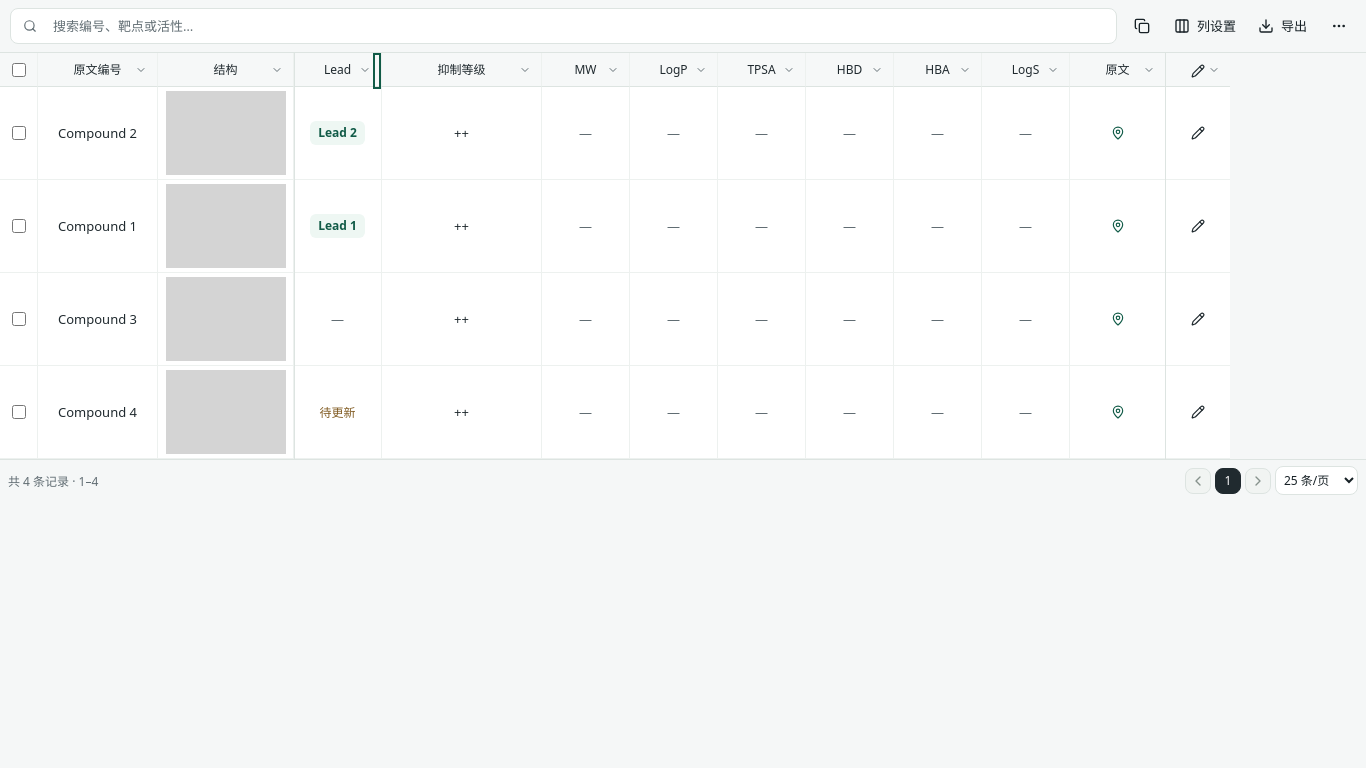
Test case: minimal backend-owned Lead column › supports the existing Lead column hide/restore and keyboard width controls
Press Arrowright
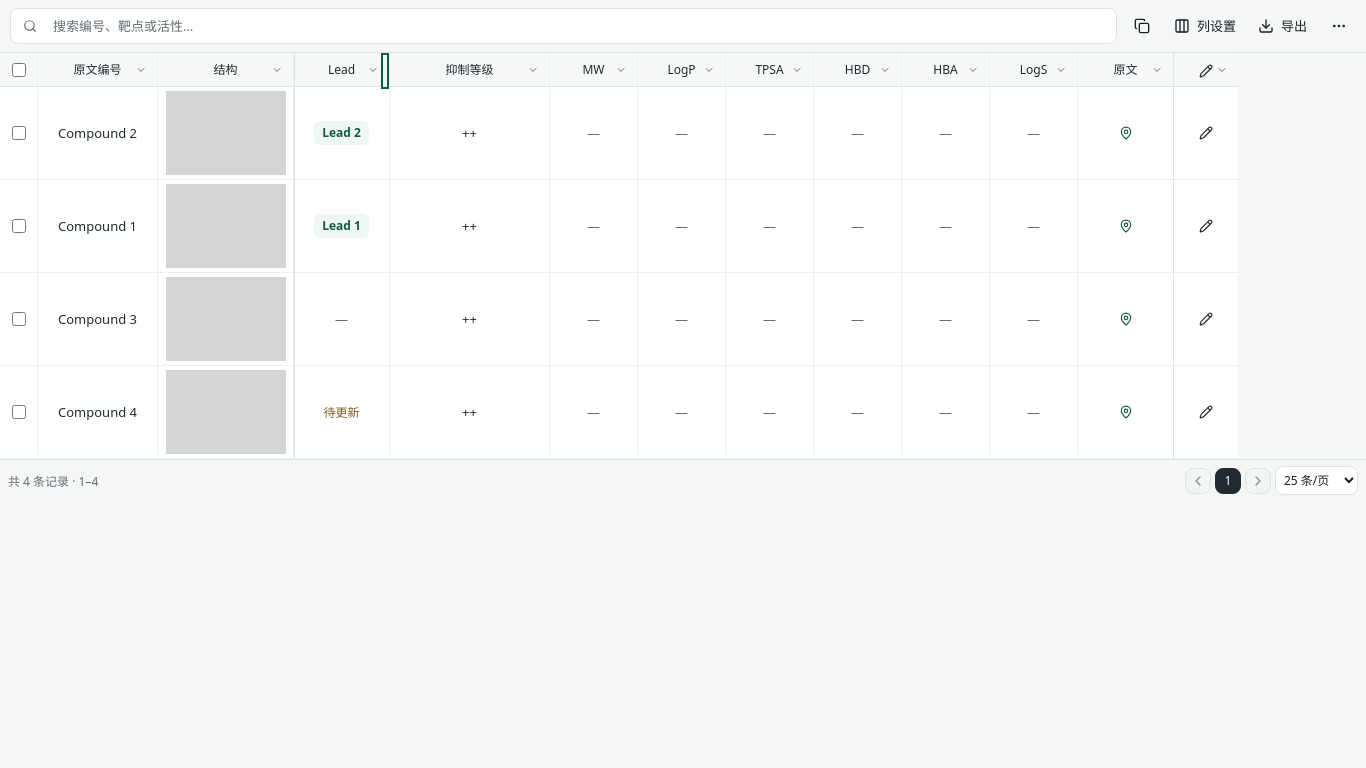
Expected: the slider named "调整Lead列宽" has attribute aria-valuenow="96", [381, 53, 389, 89]
Click the button named "Lead 列选项" at (338, 70), box [294, 53, 381, 86]
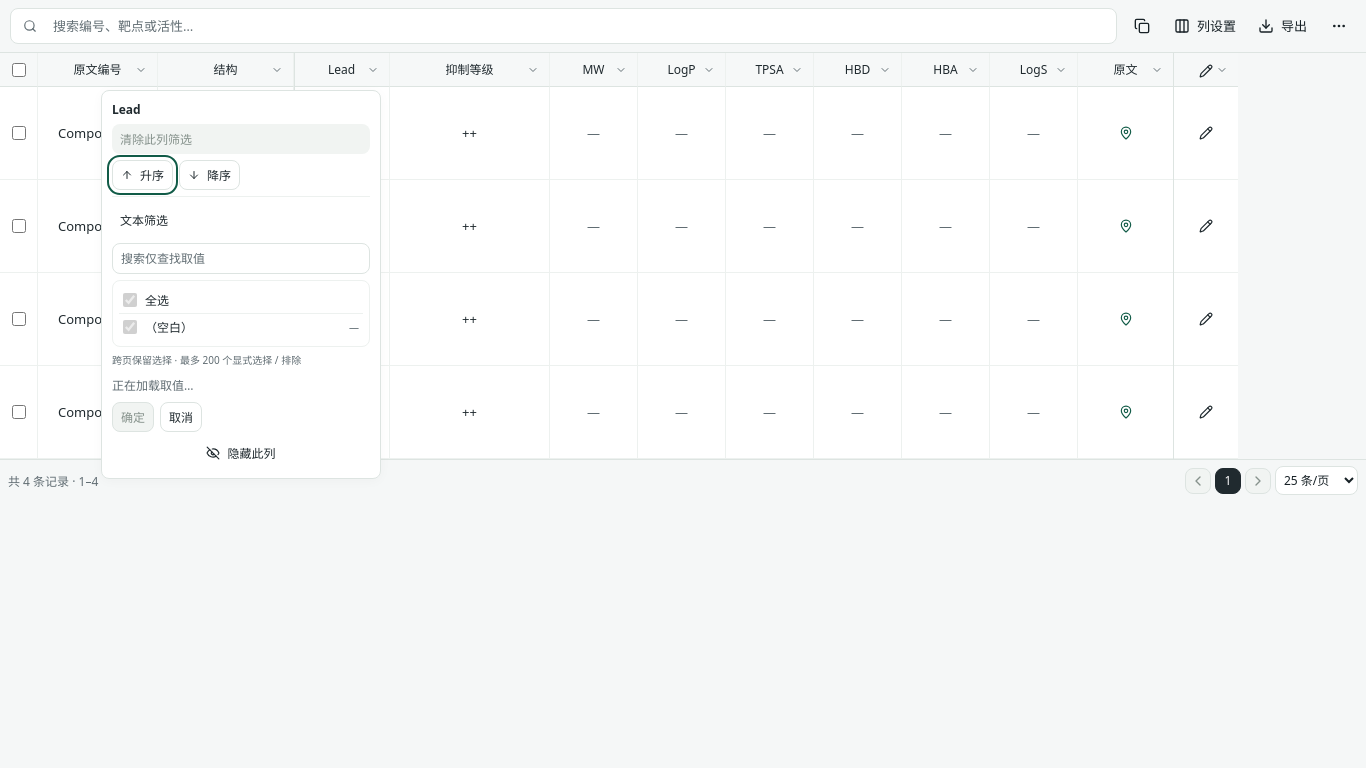
Click the button "隐藏此列" at (241, 453), box [112, 438, 370, 468]
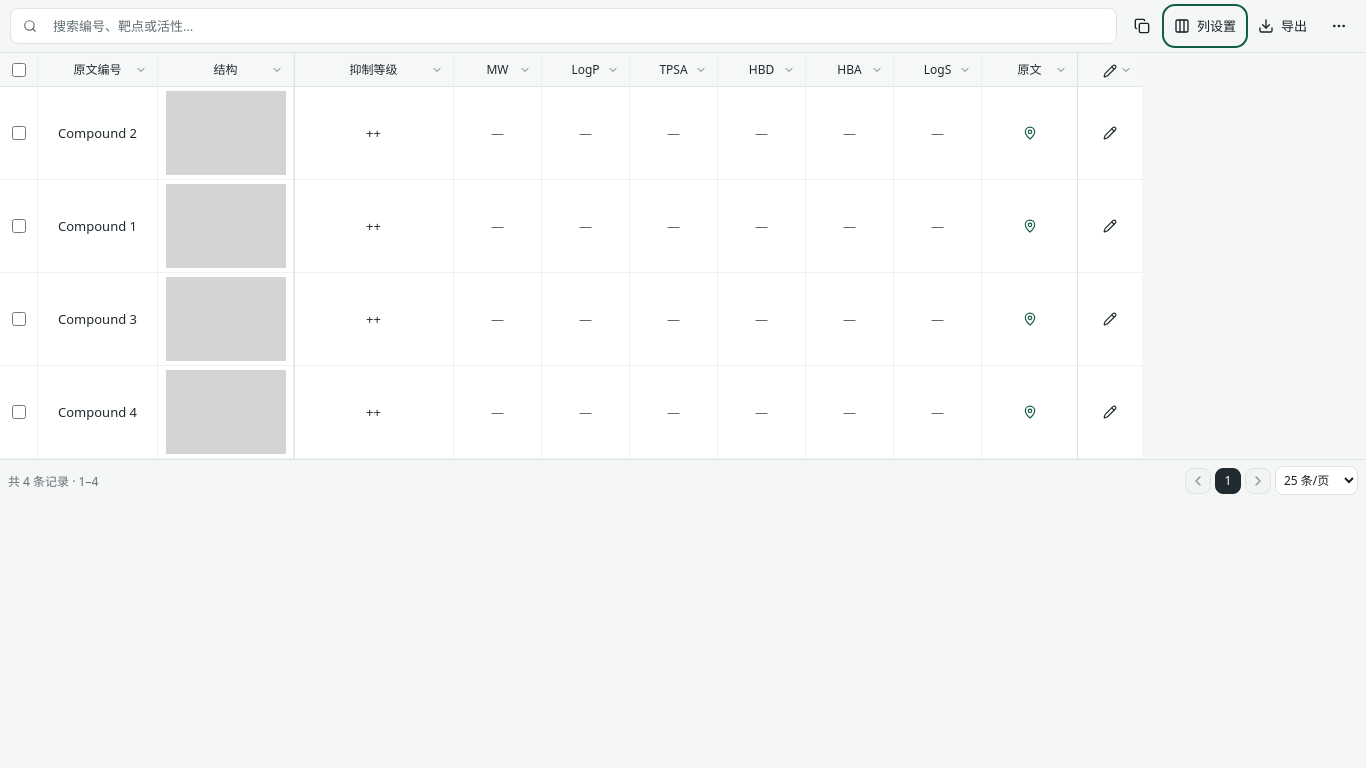
Expected: the text "Lead" is gone
Expected: the button is gone
Click the button with aria-label "显示列" at (1205, 26), box [1167, 9, 1243, 43]
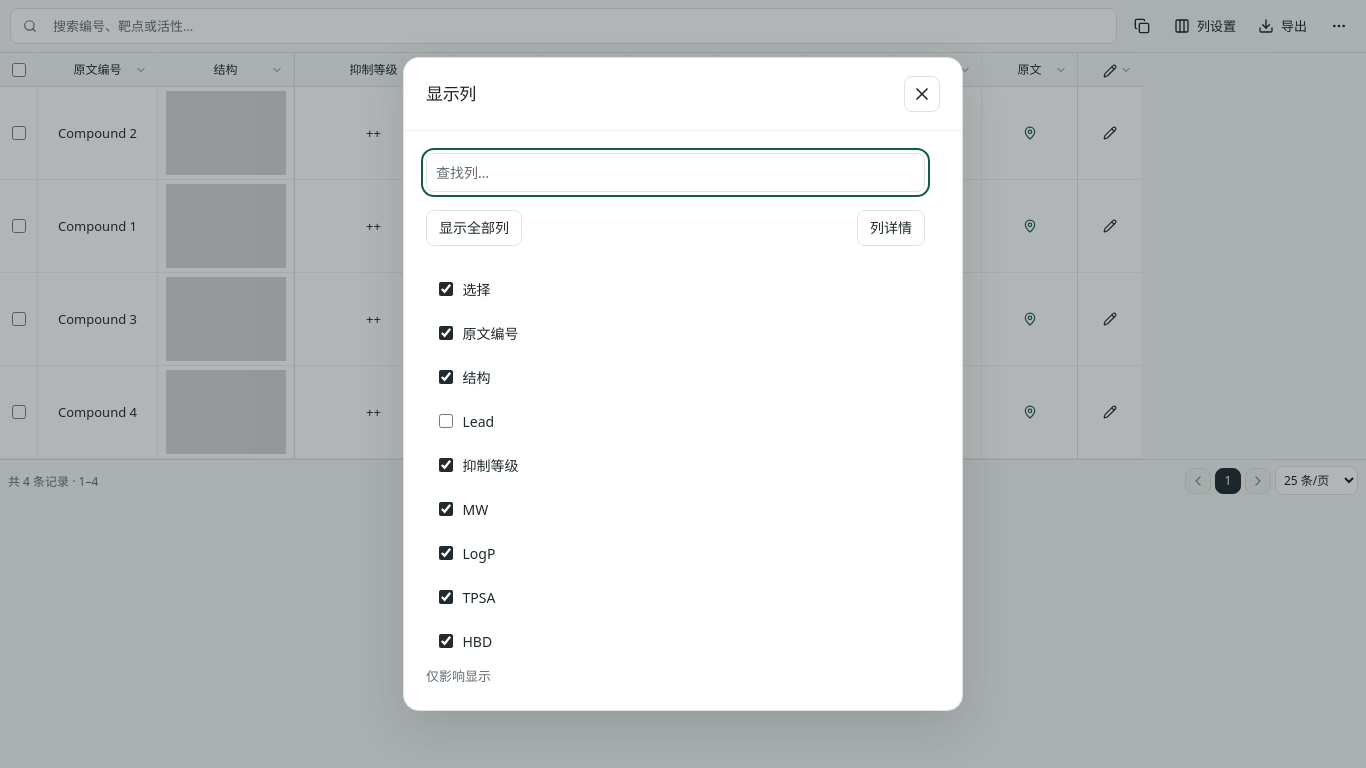
Click the checkbox named "显示列 Lead" at (446, 421), box [438, 414, 452, 428]
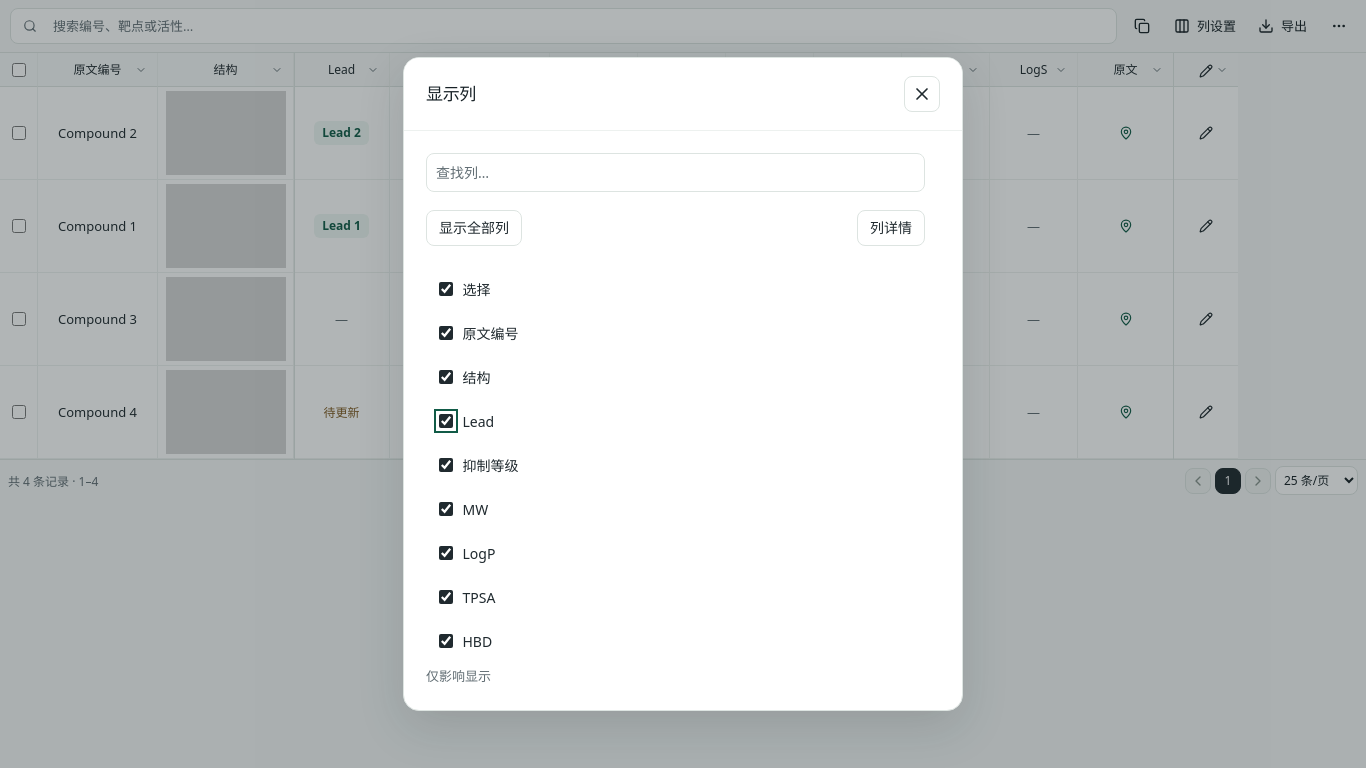
Expected: the column heading "Lead" is shown, [294, 53, 390, 87]
Expected: the text "Lead 1" is shown, [314, 214, 369, 238]
